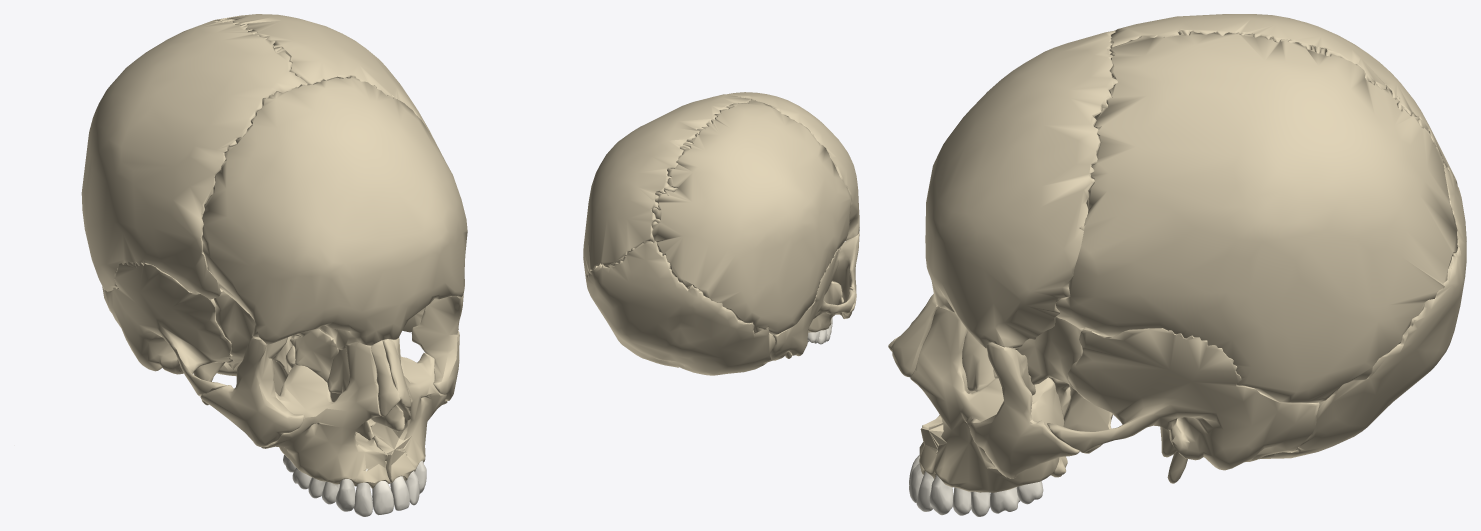
Rendered from cranium.glb.
3 views of the same model, side by side, from view 1: azimuth 30°, elevation 25°; view 2: azimuth 150°, elevation 25°; view 3: azimuth 270°, elevation 25° (orthographic). The views are drawn at different scales.
Visible parts, largest first — view 1: cranium; view 2: cranium; view 3: cranium.
Boxes of the visible parts, x1,y1,x2,y2 form: cranium: (81, 14, 467, 516); cranium: (583, 92, 859, 375); cranium: (888, 14, 1466, 516).
Size of the model in its own units: 0.151 by 0.2146 by 0.2088.
